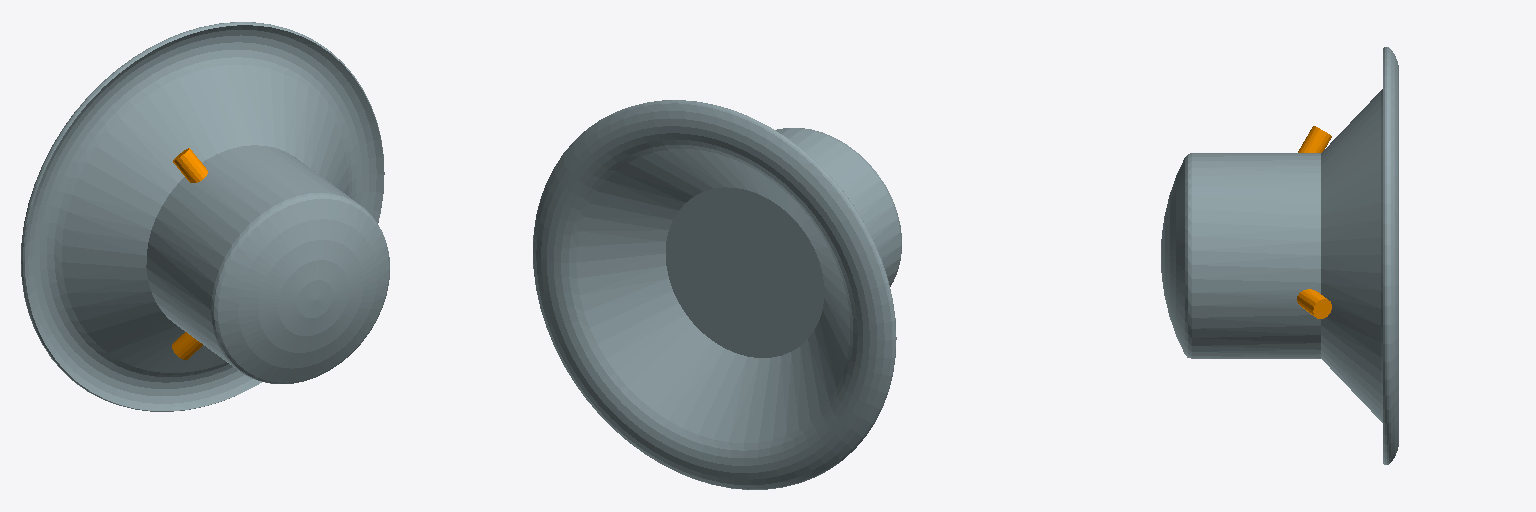
The model's file is k_rper1_visual.obj.
3 renders of one model, left to right at view 1: azimuth 30°, elevation 25°; view 2: azimuth 150°, elevation 25°; view 3: azimuth 270°, elevation 25°, orthographic.
Visible parts, largest first — view 1: Körper1; view 2: Körper1; view 3: Körper1.
Part boxes in pixels (left/top/right/bottom): Körper1: left=21, top=22, right=389, bottom=411; Körper1: left=533, top=100, right=901, bottom=489; Körper1: left=1161, top=47, right=1398, bottom=464.
Bounding box in the file's own units: 56.99 × 56.99 × 32.48.